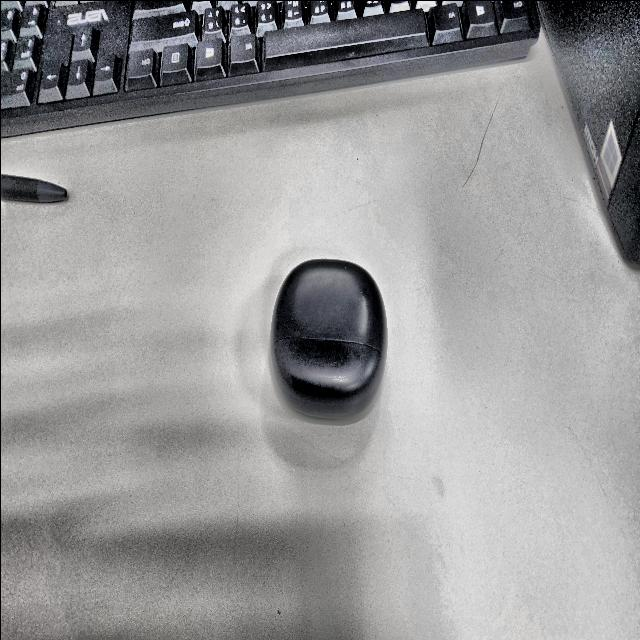Bluetooth headphones: (270, 259, 386, 418)
Keyboard: (0, 0, 539, 137)
